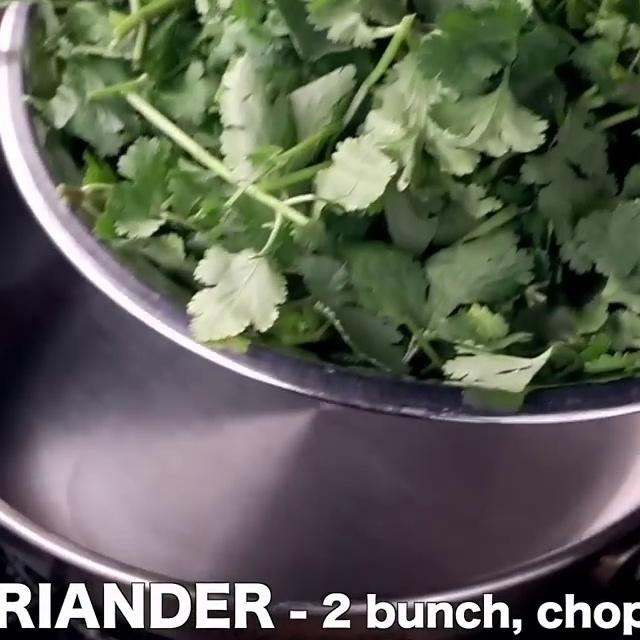cilantro: (87, 0, 640, 337)
